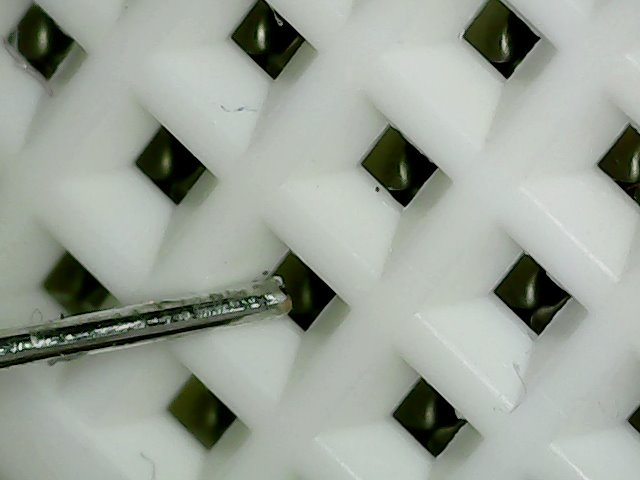faulty: (237, 199, 363, 378)
